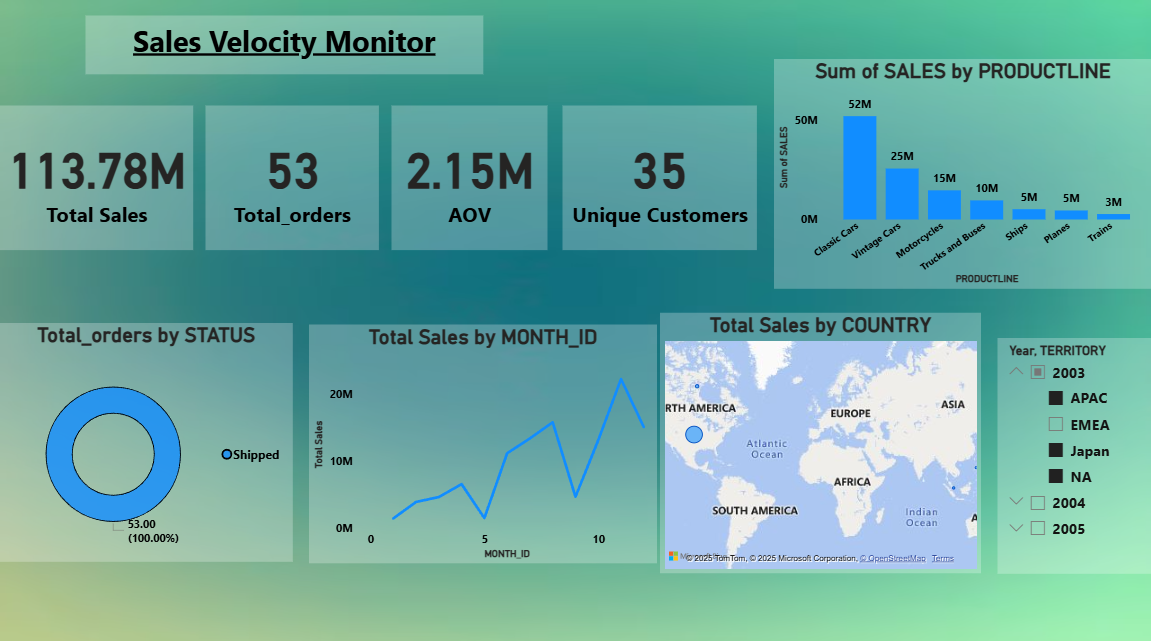

The page's visual inventory and layout, read from the dashboard file:
{"tool":"powerbi","page":{"name":"Page 1","canvas":[1280,720],"ordinal":0},"visuals":[{"type":"card","fields":{"Values":["sales_data_sample.Total Sales"]},"box":[0,115,215,155],"z":0},{"type":"card","fields":{"Values":["sales_data_sample.Total_orders"]},"box":[228.3,118.3,193.3,151.7],"z":1000},{"type":"card","fields":{"Values":["sales_data_sample.AOV"]},"box":[433.3,118.3,173.3,151.7],"z":2000},{"type":"card","fields":{"Values":["sales_data_sample.Unique Customers"]},"box":[621.7,110,216.7,160],"z":3000},{"type":"lineChart","fields":{"Y":["sales_data_sample.Total Sales"],"Category":["sales_data_sample.MONTH_ID","sales_data_sample.YEAR_ID"]},"box":[343.3,361.7,386.7,265],"z":4000},{"type":"map","fields":{"Category":["sales_data_sample.COUNTRY"],"Size":["sales_data_sample.Total Sales"]},"box":[733.3,348.3,356.7,290],"z":5000},{"type":"donutChart","fields":{"Category":["sales_data_sample.STATUS"],"Y":["sales_data_sample.Total_orders"]},"box":[0,360,325,265],"z":6000},{"type":"slicer","fields":{"Values":["sales_data_sample.YEAR_ID","sales_data_sample.TERRITORY"]},"box":[1108.3,376.7,171.7,196.7],"z":7000},{"type":"columnChart","fields":{"Category":["sales_data_sample.PRODUCTLINE"],"Y":["Sum(sales_data_sample.SALES)"]},"box":[860,66.7,420,255],"z":8000},{"type":"textbox","box":[95,18.3,441.7,65],"z":8001}]}

Visuals, with their boxes in screenshot pixels (x1, y1, x2, y2), scaled from the page's 1280x720 canvas onto the 1151x641 screenshot:
card - sales_data_sample.Total Sales: {"x1": 0, "y1": 102, "x2": 193, "y2": 240}
card - sales_data_sample.Total_orders: {"x1": 205, "y1": 105, "x2": 379, "y2": 240}
card - sales_data_sample.AOV: {"x1": 390, "y1": 105, "x2": 545, "y2": 240}
card - sales_data_sample.Unique Customers: {"x1": 559, "y1": 98, "x2": 754, "y2": 240}
lineChart - sales_data_sample.Total Sales x sales_data_sample.MONTH_ID: {"x1": 309, "y1": 322, "x2": 656, "y2": 558}
map - sales_data_sample.COUNTRY x sales_data_sample.Total Sales: {"x1": 659, "y1": 310, "x2": 980, "y2": 568}
donutChart - sales_data_sample.STATUS x sales_data_sample.Total_orders: {"x1": 0, "y1": 320, "x2": 292, "y2": 556}
slicer - sales_data_sample.YEAR_ID x sales_data_sample.TERRITORY: {"x1": 997, "y1": 335, "x2": 1150, "y2": 510}
columnChart - sales_data_sample.PRODUCTLINE x Sum(sales_data_sample.SALES): {"x1": 773, "y1": 59, "x2": 1150, "y2": 286}
textbox: {"x1": 85, "y1": 16, "x2": 483, "y2": 74}
